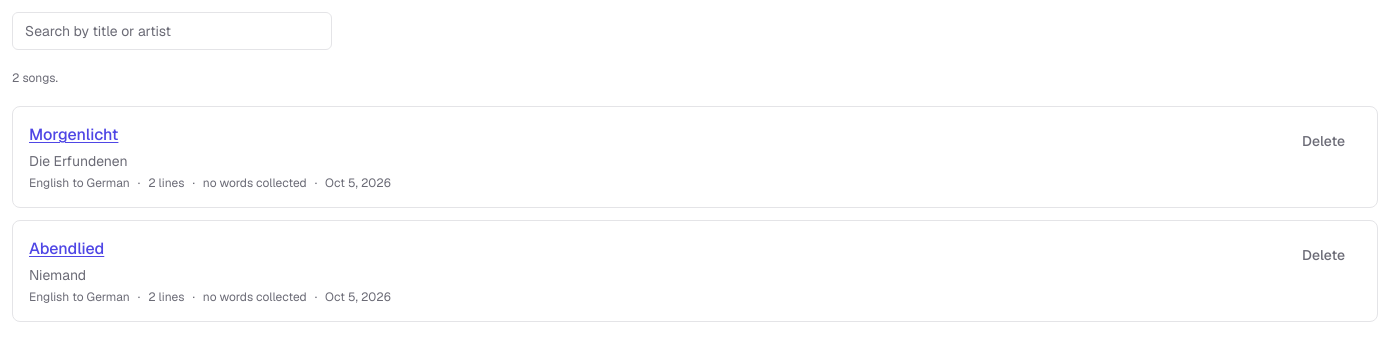
SongLibrary › search › says so when nothing matches
Expected: the number of list items is 2, [12,106,1377,208]; [12,220,1377,322]
In the search field named "Search songs": {"x": 172, "y": 31} [12,12,332,50], type "zzzz"
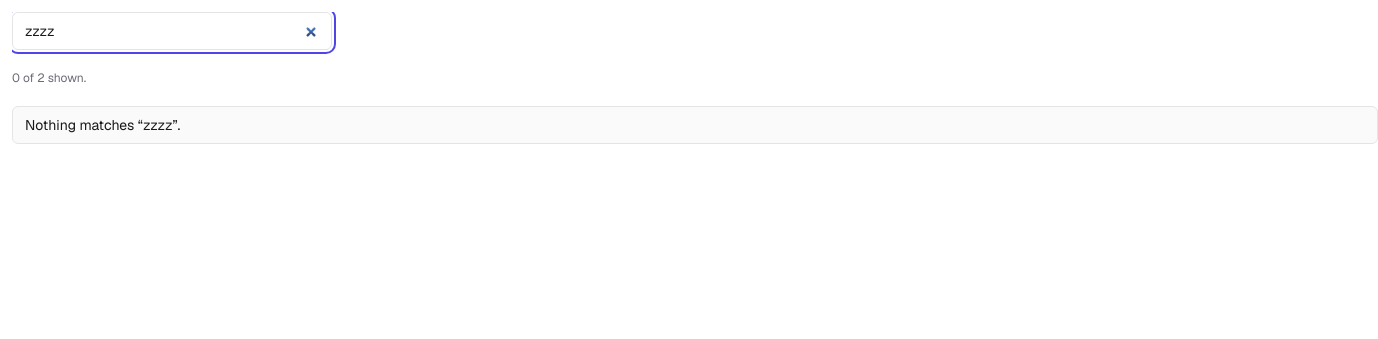
Result: the text "Nothing matches “zzzz”." is shown at [12,106,1377,144]
